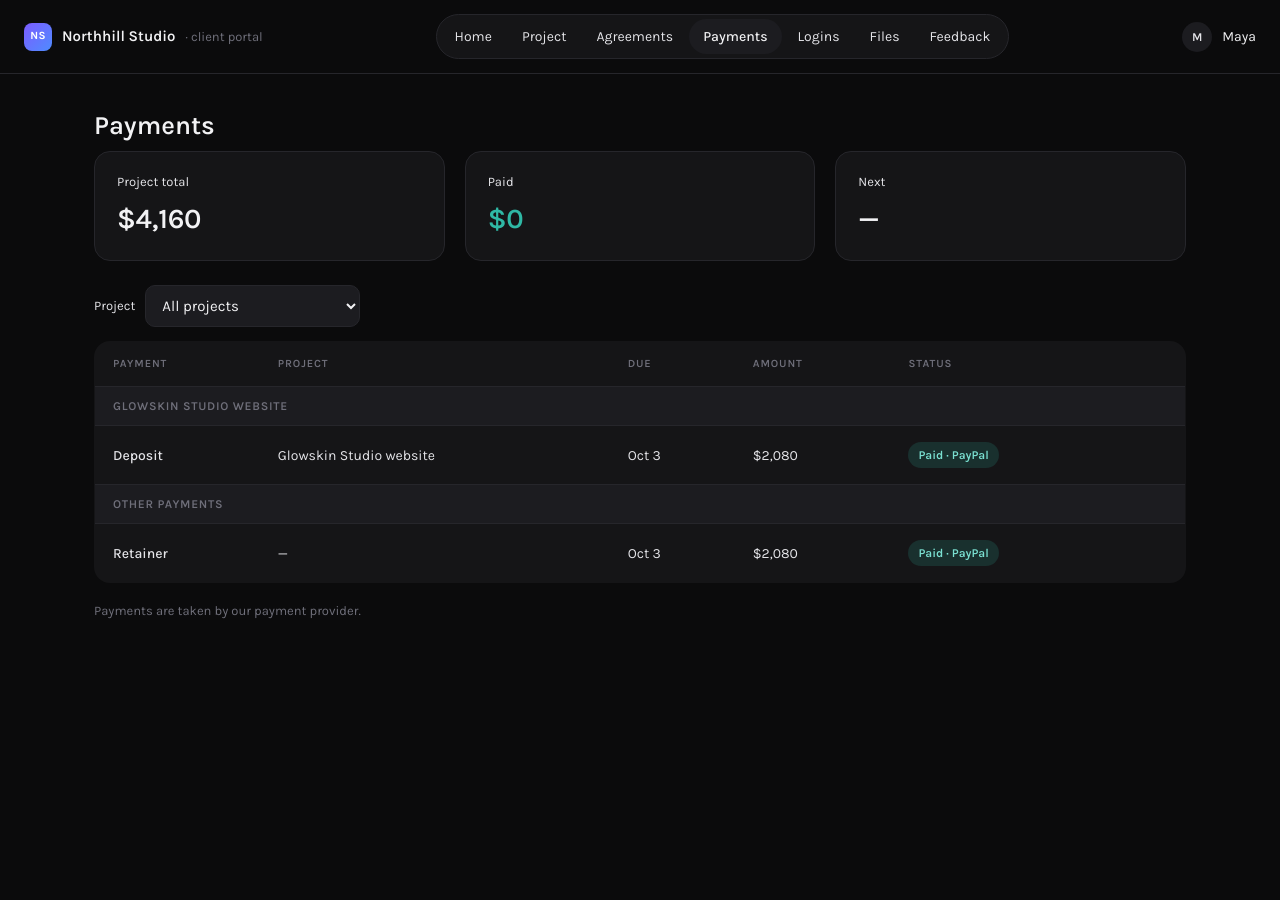
Test case: grouping and the filter › narrows the table to the unfiled payments, which are not every payment
The width and height of the screenshot is (1280, 900).
Select "Other payments" in the dropdown: (253, 306) left=145, top=284, right=360, bottom=326
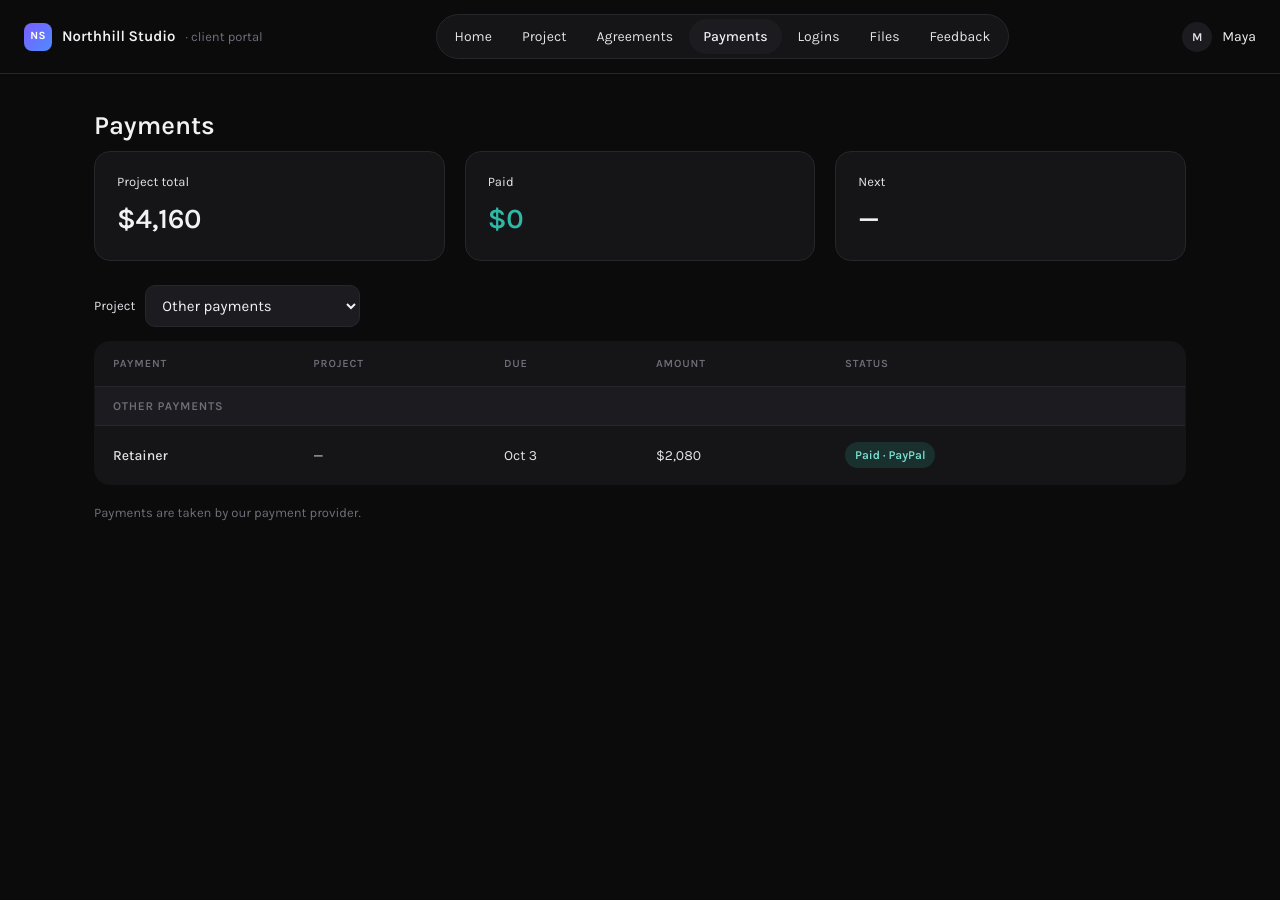
Check: the text "Retainer" is shown, box left=94, top=426, right=295, bottom=484
Check: the text "Deposit" is gone
